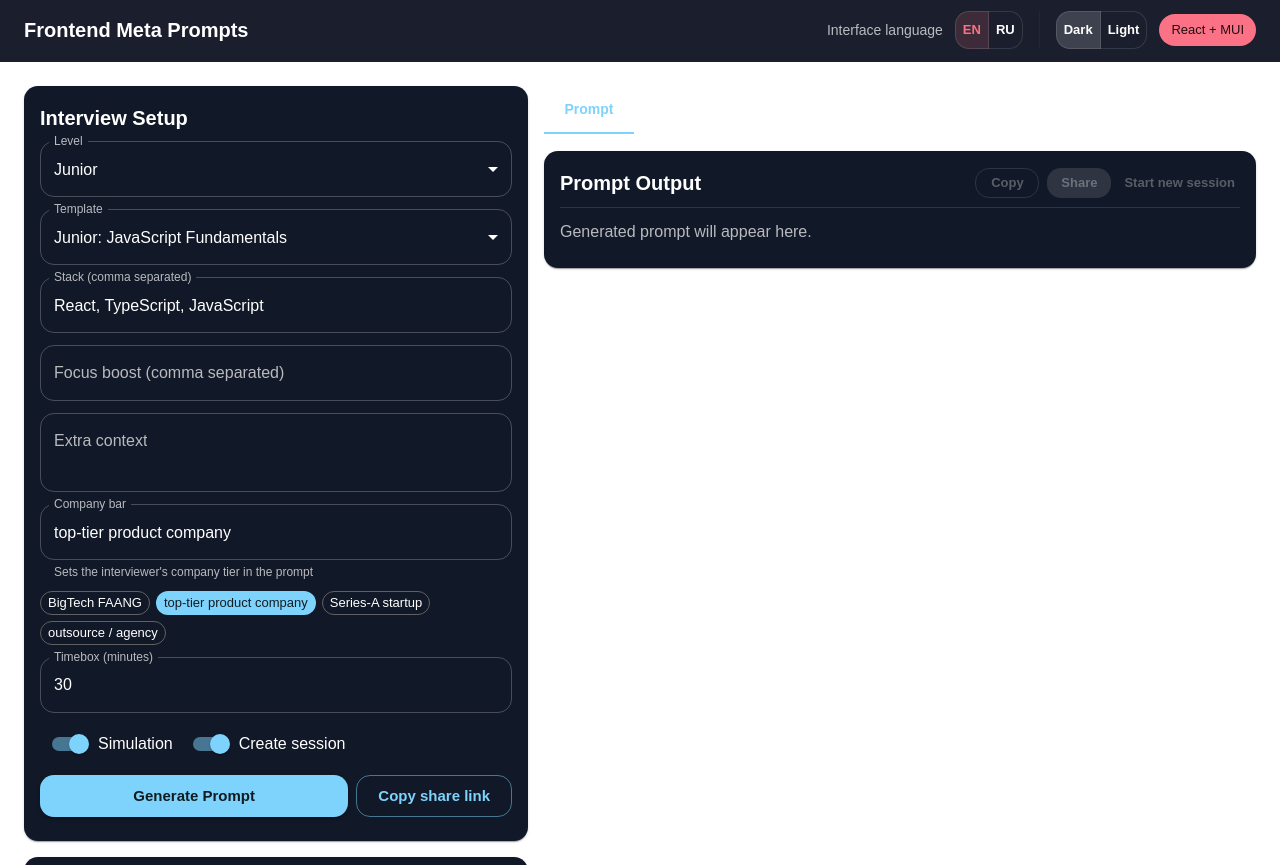
Test: App › toggles the topic heatmap horizon between 12/26/52 weeks
Click the tab "Charts".
click(679, 110)  # box [634,86,724,134]
(page scrolled)
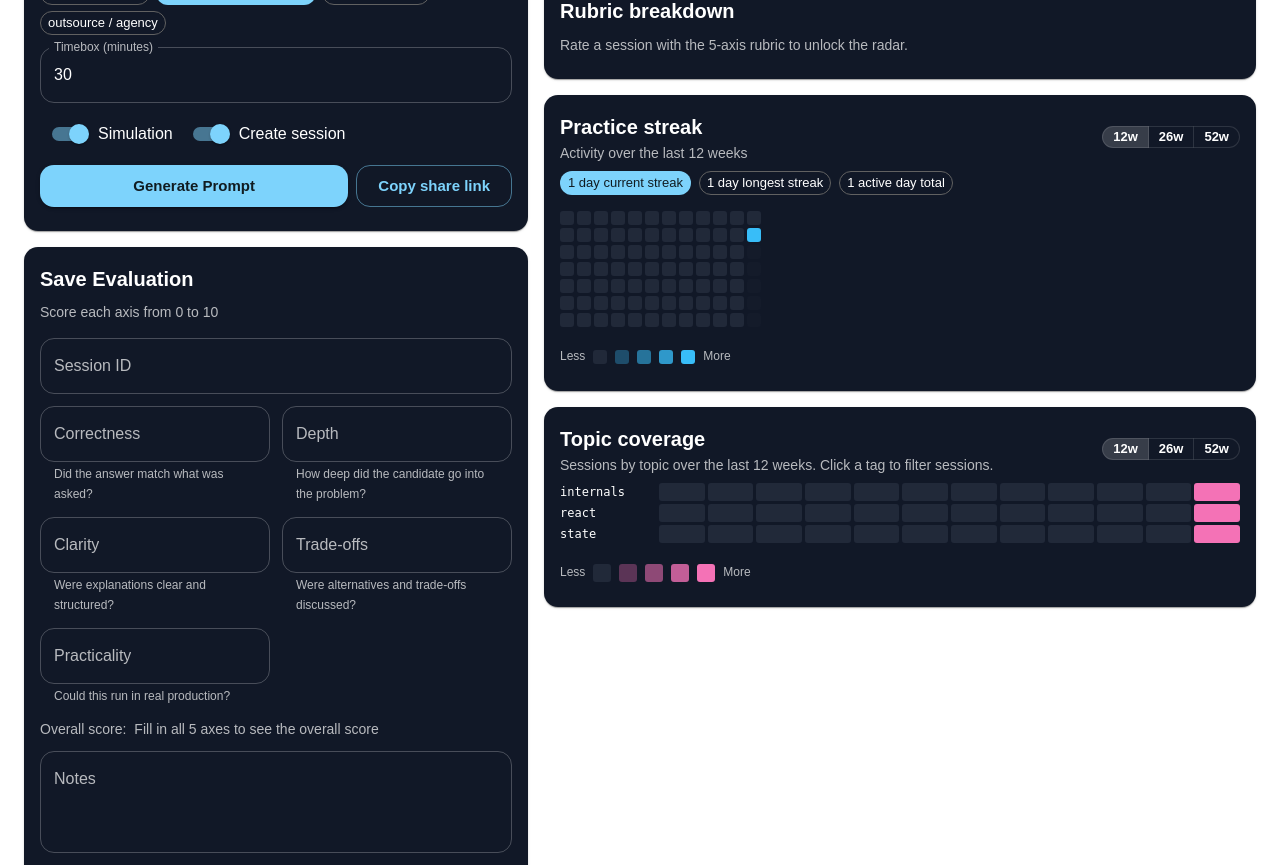
Now the text "Sessions by topic over the last 12 weeks" is shown, box [560,457,993,473]
Now the text "Topic coverage" is shown, box [560,428,705,450]
Click the button "26w" in the row of "Topic coverage".
click(1171, 449)  # box [1148,438,1194,460]
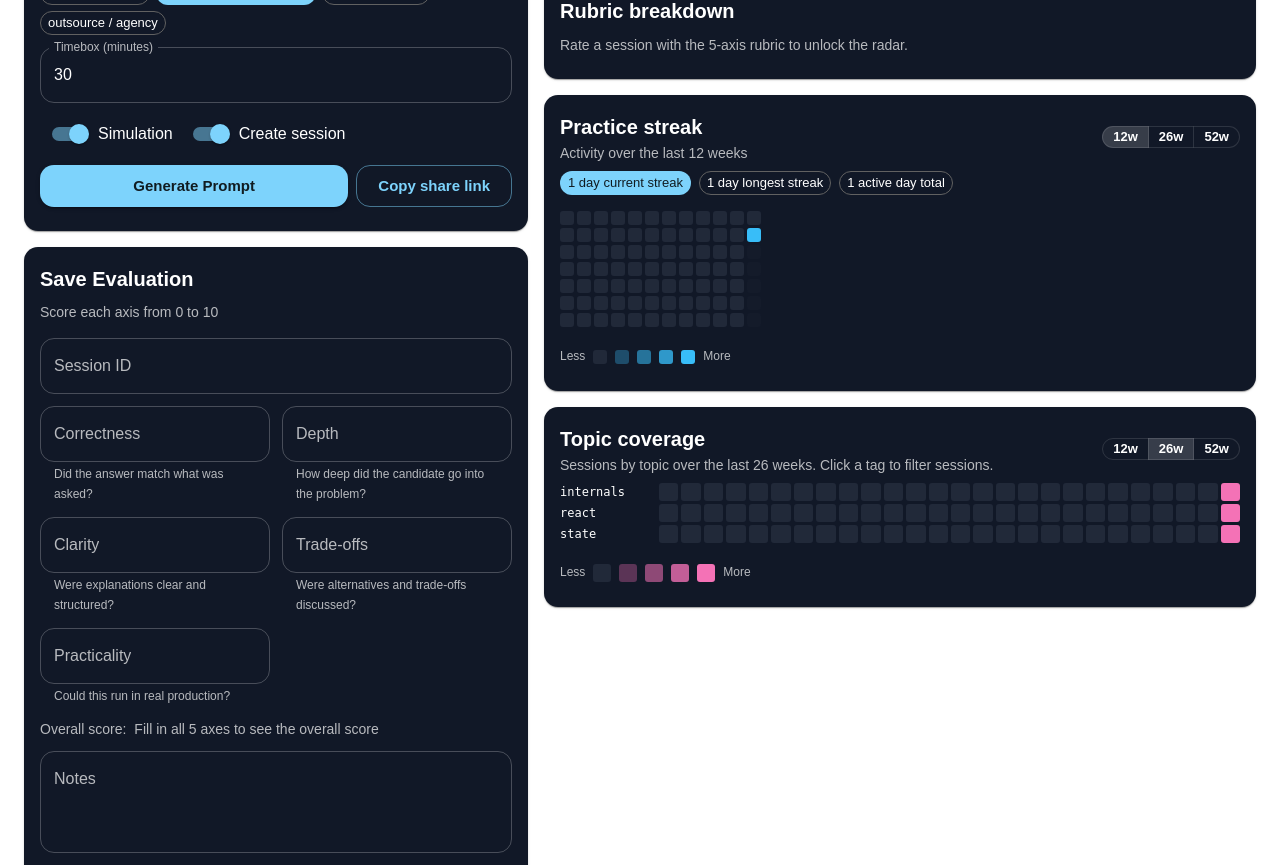
Now the text "Sessions by topic over the last 26 weeks" is shown, box [560,457,993,473]
Click the button "52w" in the row of "Topic coverage".
click(1217, 449)  # box [1193,438,1240,460]
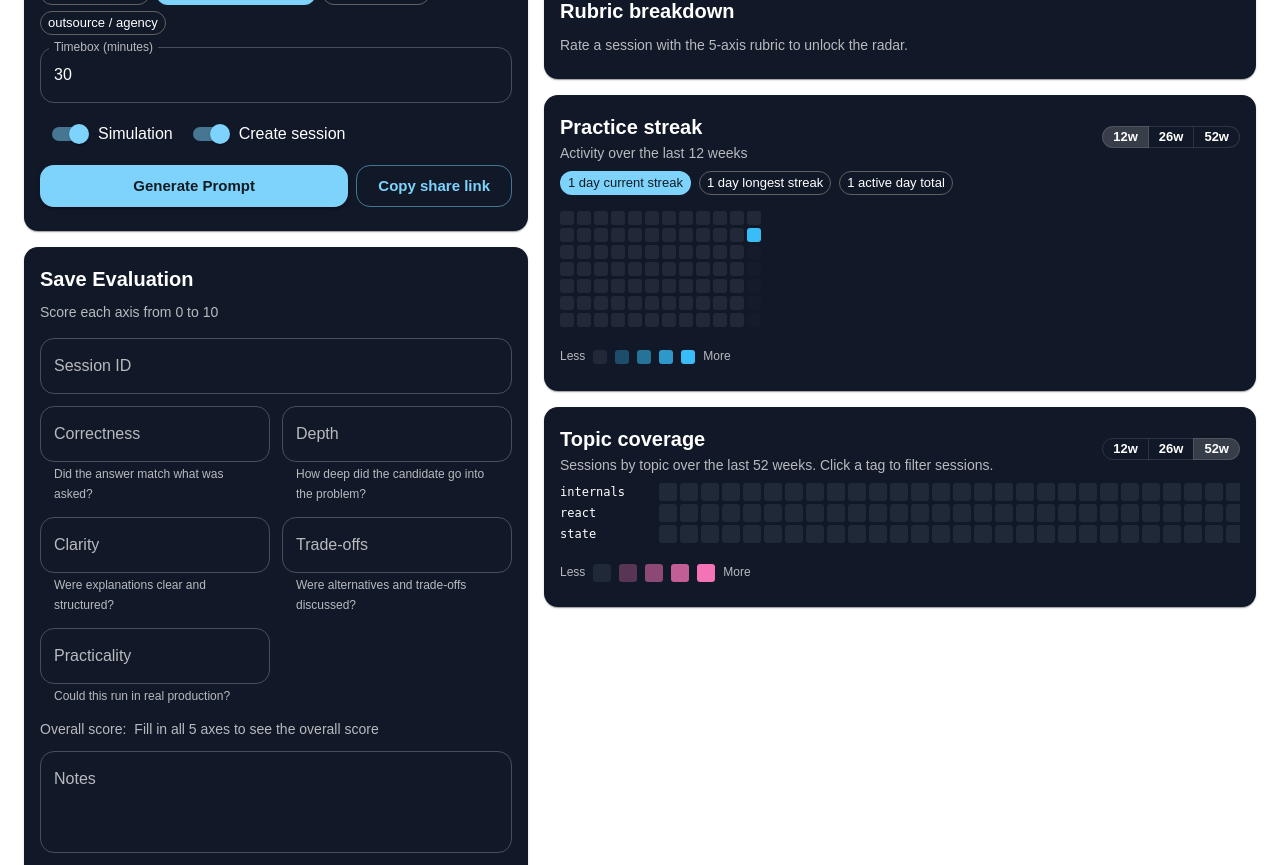
Now the text "Sessions by topic over the last 52 weeks" is shown, box [560,457,993,473]
